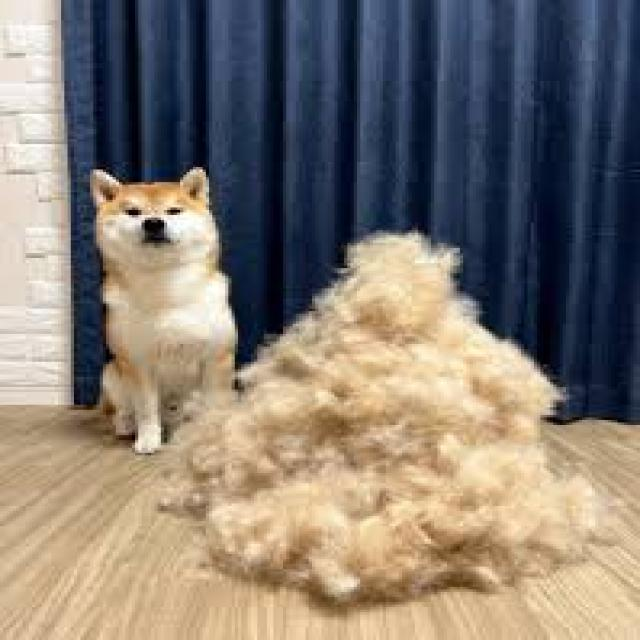dog: (91, 167, 238, 457)
